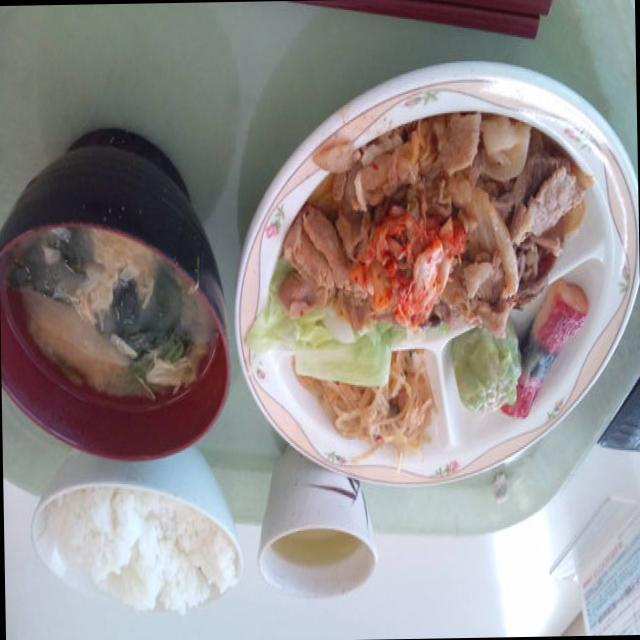Rice: (36, 489, 242, 616)
